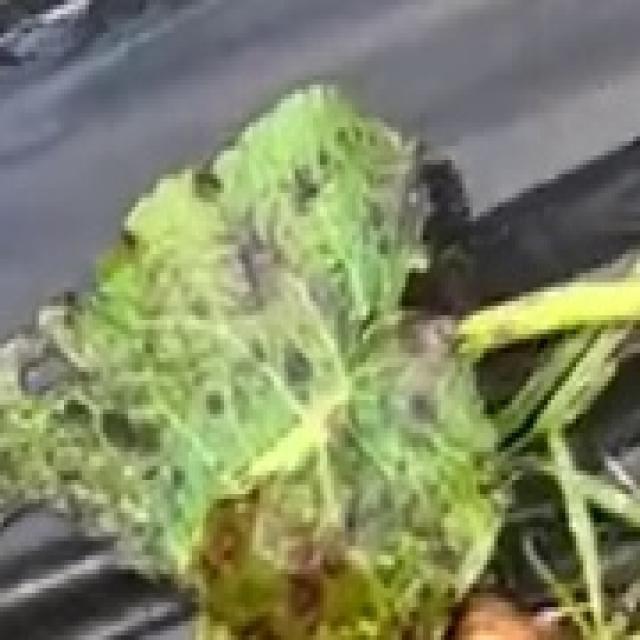organic waste: (0, 66, 587, 598)
